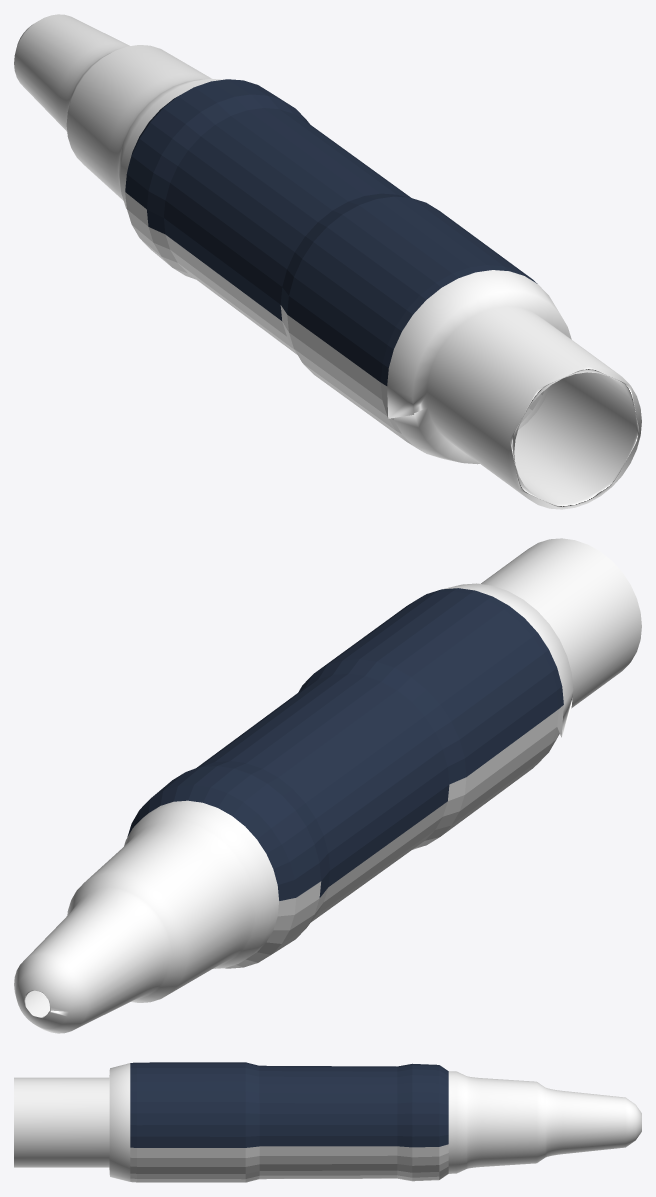
File: pen1_part1.fbx
The picture shows the model from 3 angles, top to bottom: view 1: azimuth 30°, elevation 25°; view 2: azimuth 150°, elevation 25°; view 3: azimuth 270°, elevation 25°; orthographic projection. The views are drawn at different scales.
Parts seen in each view (by area): view 1: Cylinder; view 2: Cylinder; view 3: Cylinder.
Part boxes in pixels (box(x1,y1,x2,y2)): Cylinder: box(14, 14, 641, 509); Cylinder: box(14, 538, 641, 1033); Cylinder: box(14, 1062, 641, 1182).
Bounding box in the file's own units: 13.54 × 13.54 × 70.49.
